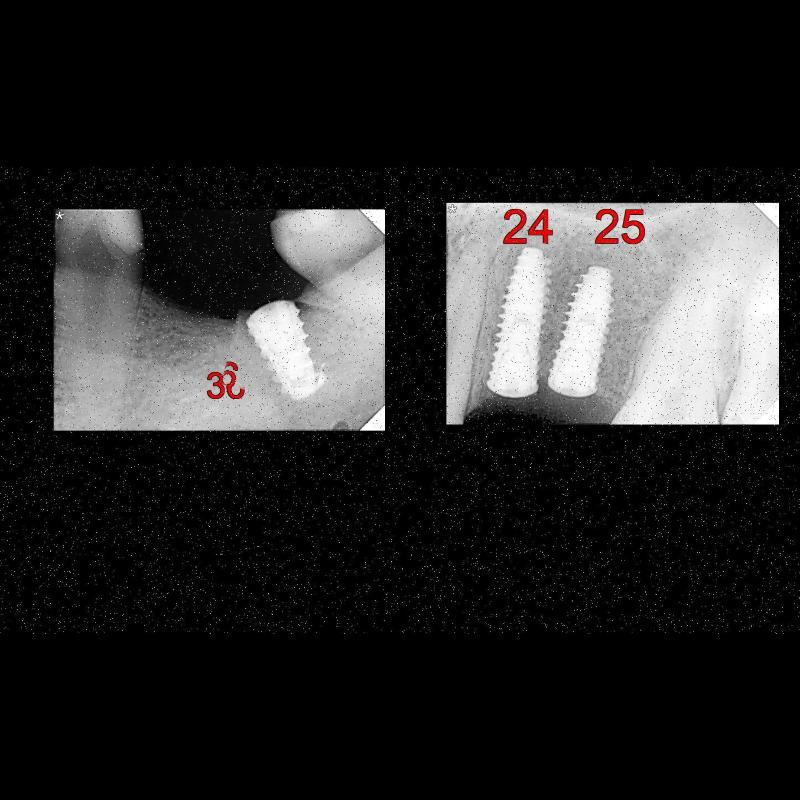osstem: (478, 244, 552, 398), (226, 294, 330, 400), (549, 260, 620, 396)
